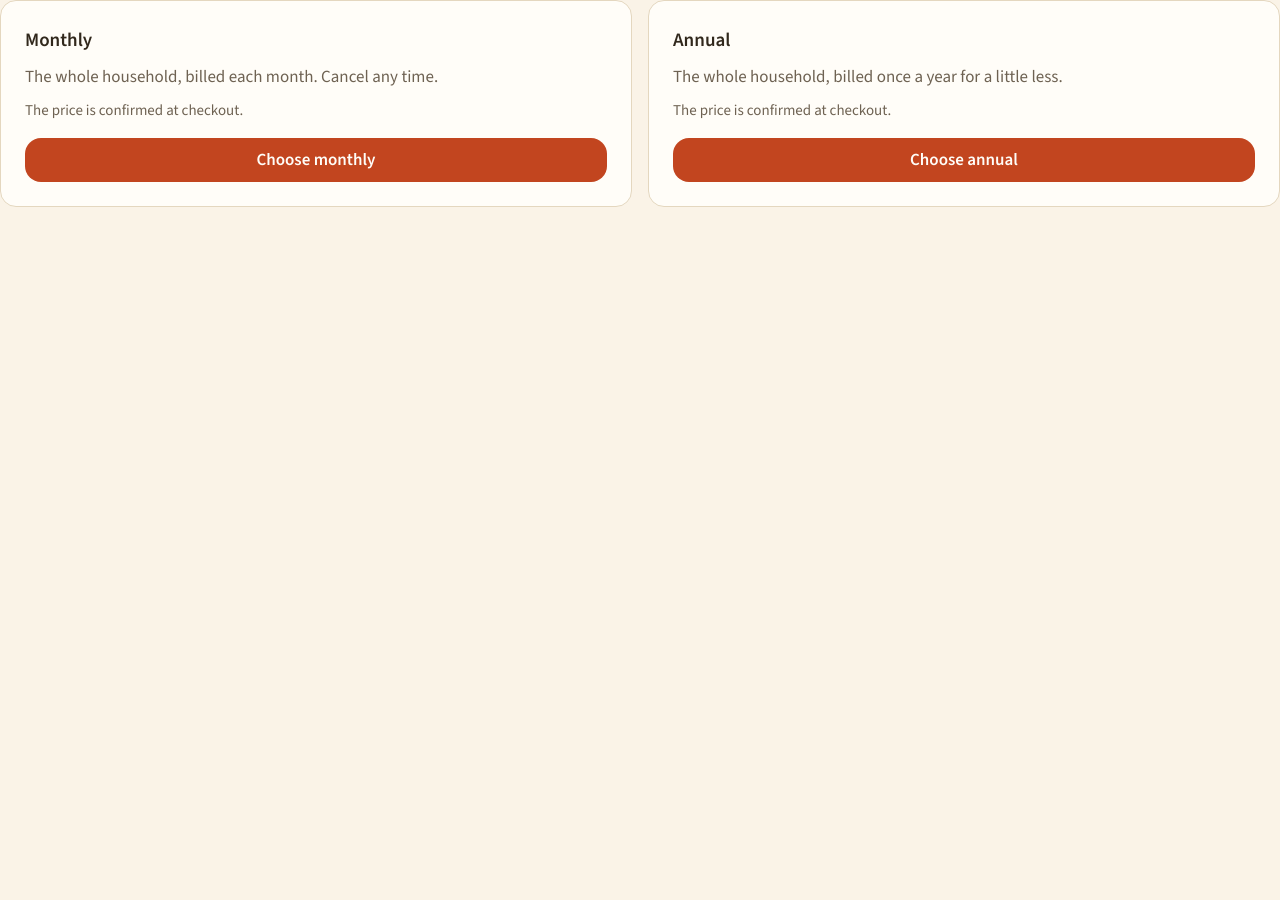
it: BillingPanel checkout gate › opens the parental gate before starting a live checkout
Click the button "Choose monthly" at (316, 160), box [25,138,607,182]
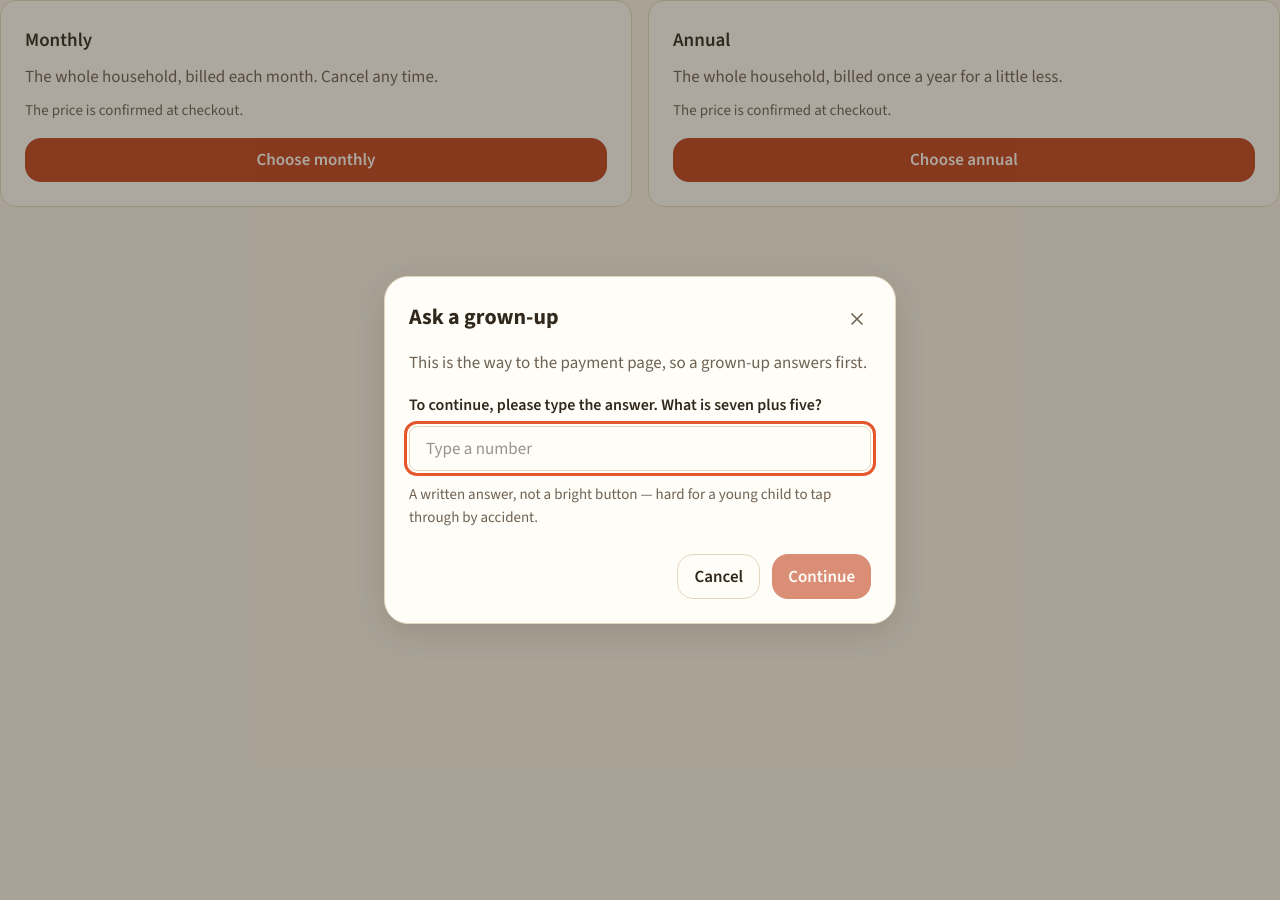
expect the heading "Ask a grown-up" is shown: met, box [409,301,558,333]
